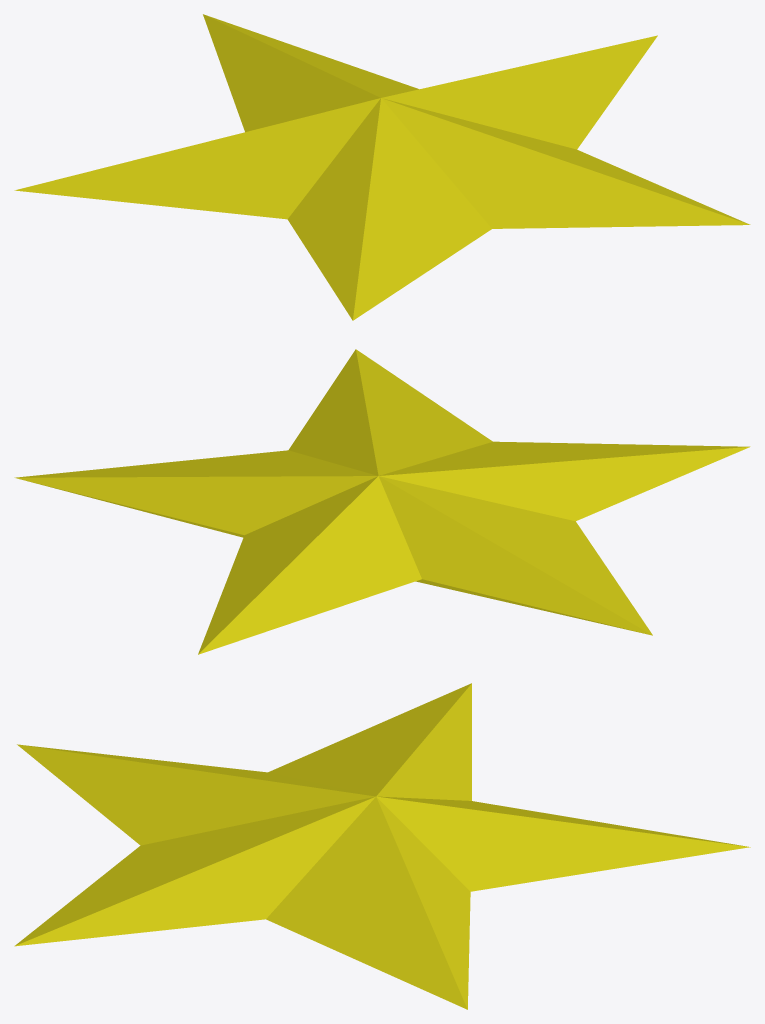
Rendered from star.dae.
3 views of the same model, one above another, from view 1: azimuth 30°, elevation 25°; view 2: azimuth 150°, elevation 25°; view 3: azimuth 270°, elevation 25° (orthographic). The views are drawn at different scales.
Visible parts, largest first — view 1: pCylinder1; view 2: pCylinder1; view 3: pCylinder1.
Boxes of the visible parts, box(x1,y1,x2,y2) form: pCylinder1: box(14, 14, 750, 320); pCylinder1: box(14, 349, 750, 654); pCylinder1: box(14, 683, 750, 1009).
Bounding box in the file's own units: 15.71 × 14.97 × 2.27.
